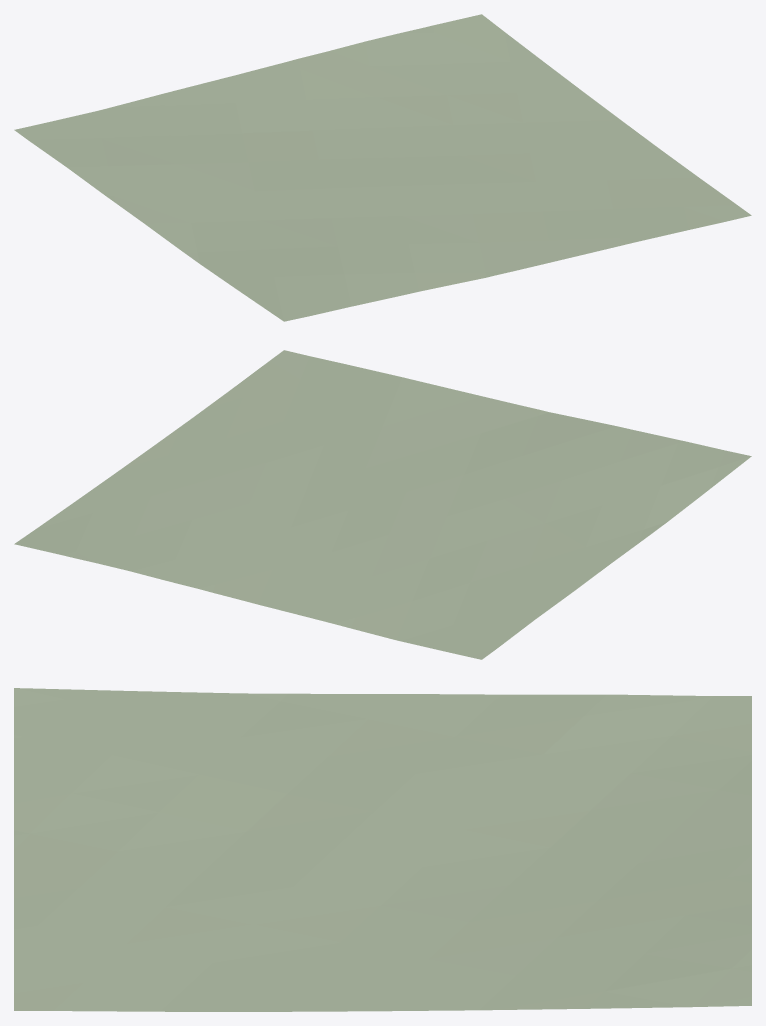
Rendered from SM_MPRR_Terrain_-4_-1.fbx.
The picture shows the model from 3 angles, top to bottom: view 1: azimuth 30°, elevation 25°; view 2: azimuth 150°, elevation 25°; view 3: azimuth 270°, elevation 25°; orthographic projection. The views are drawn at different scales.
Visible parts, largest first — view 1: SM_MPRR_Terrain_-4_-1; view 2: SM_MPRR_Terrain_-4_-1; view 3: SM_MPRR_Terrain_-4_-1.
Part boxes in pixels (x1,y1,x2,y2): SM_MPRR_Terrain_-4_-1: (14, 14, 751, 321); SM_MPRR_Terrain_-4_-1: (14, 350, 751, 659); SM_MPRR_Terrain_-4_-1: (14, 688, 751, 1011).
Size of the model in its own units: 15000 by 15000 by 271.
